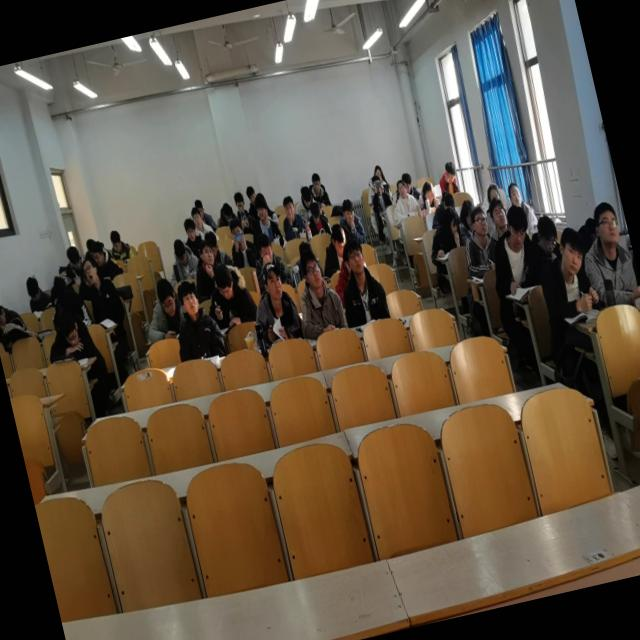bow: (330, 237, 390, 326), (38, 304, 100, 366), (0, 292, 26, 342), (412, 176, 443, 216)
down: (532, 211, 562, 258), (502, 204, 532, 249), (152, 274, 181, 320), (210, 261, 238, 303), (327, 222, 350, 260), (255, 233, 277, 268), (58, 315, 82, 347), (441, 204, 463, 238), (171, 237, 191, 268), (64, 244, 84, 272), (23, 276, 42, 304), (88, 240, 106, 266), (298, 182, 314, 209), (108, 228, 124, 254), (50, 274, 66, 298), (442, 158, 457, 182), (308, 200, 322, 224), (422, 180, 436, 203), (0, 298, 7, 330), (222, 202, 232, 220)
lookup: (554, 224, 588, 275), (592, 200, 624, 250), (258, 258, 287, 303), (297, 247, 325, 290), (175, 278, 201, 314), (342, 238, 367, 274), (488, 194, 510, 231), (470, 205, 490, 238), (226, 216, 246, 248), (196, 237, 216, 266), (280, 191, 298, 222), (181, 215, 199, 243), (340, 198, 356, 225), (81, 258, 98, 283), (232, 189, 248, 215), (507, 181, 523, 206), (189, 204, 204, 229), (396, 180, 408, 200), (311, 172, 322, 192)
sit: (570, 198, 640, 312), (527, 224, 602, 326), (480, 205, 544, 296), (239, 260, 303, 346), (287, 246, 345, 337), (165, 278, 224, 358), (202, 260, 260, 330), (451, 202, 502, 279), (76, 254, 125, 326), (136, 278, 184, 342), (183, 234, 225, 304), (242, 188, 286, 252), (420, 202, 468, 258), (312, 222, 353, 279), (223, 217, 259, 270), (384, 175, 422, 225), (274, 190, 310, 242), (163, 234, 202, 281), (334, 194, 368, 247), (184, 202, 219, 242), (364, 172, 394, 215), (20, 270, 52, 310), (434, 158, 464, 200), (302, 197, 332, 239), (106, 227, 136, 263), (292, 183, 318, 224), (306, 170, 332, 208), (214, 200, 238, 228)
